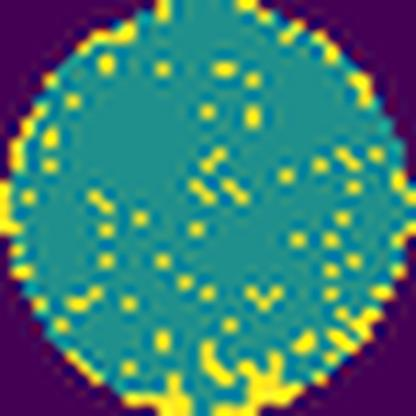Edge-Loc: (204, 345, 309, 416), (123, 364, 192, 416)
